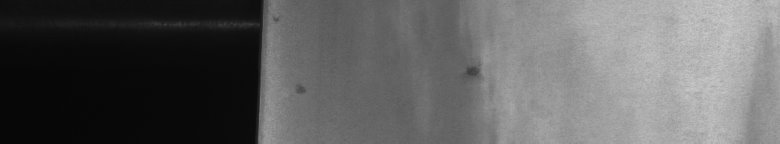fi: (461, 58, 493, 93)
